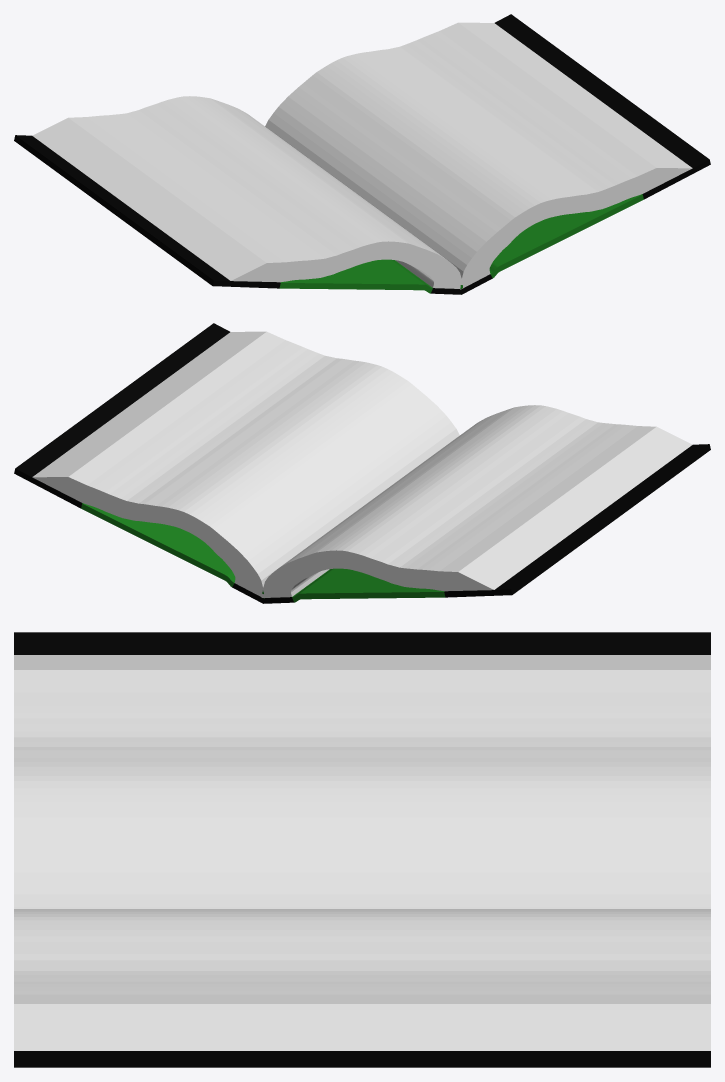
The model's file is book.fbx.
3 renders of one model, top to bottom at view 1: azimuth 30°, elevation 25°; view 2: azimuth 150°, elevation 25°; view 3: azimuth 270°, elevation 25°, orthographic. The views are drawn at different scales.
Visible parts, largest first — view 1: Cube; view 2: Cube; view 3: Cube.
Part boxes in pixels (<box>): Cube: <box>14,14,710,294</box>; Cube: <box>14,323,710,603</box>; Cube: <box>14,632,710,1067</box>.
Bounding box in the file's own units: 290 × 44.1 × 200.
